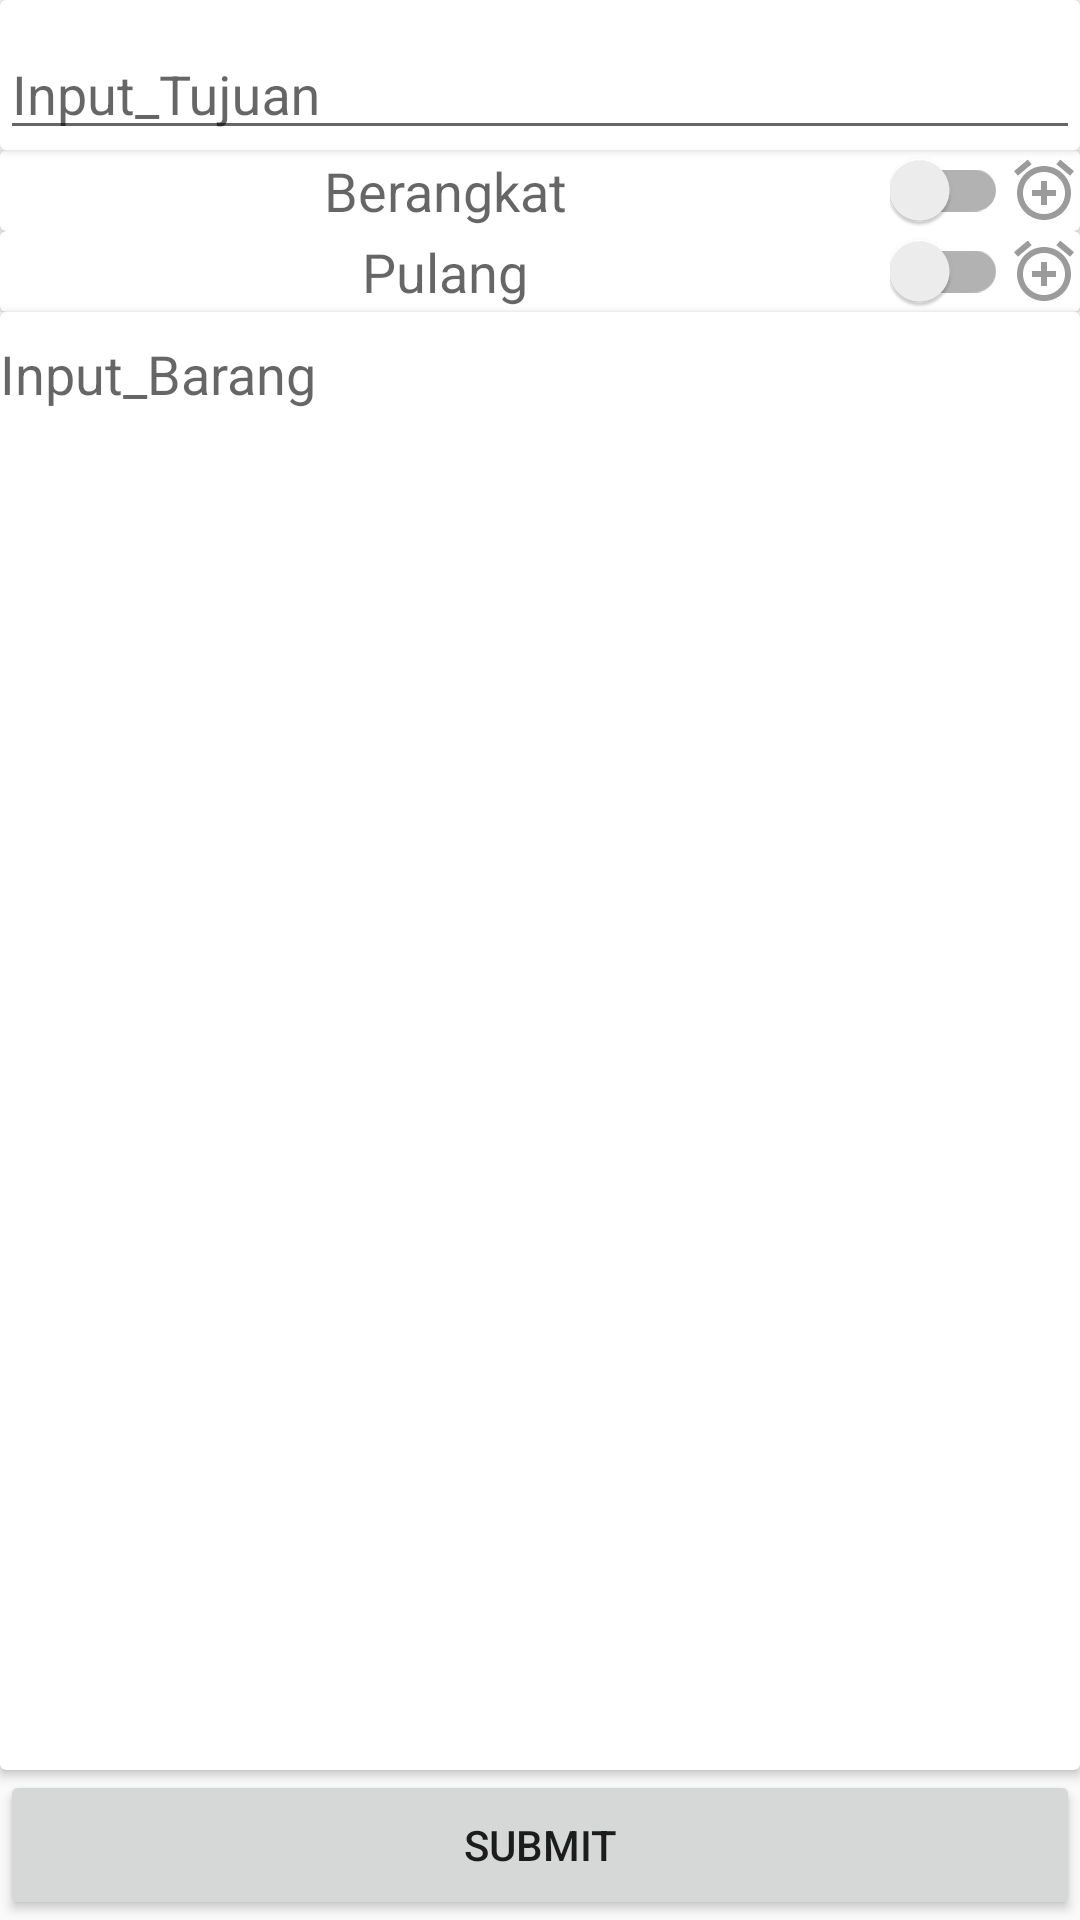

Icon click points for this 1080 × 1920 phone screenshot, format (x,y):
alarms: (1044,190), (1044,271)
